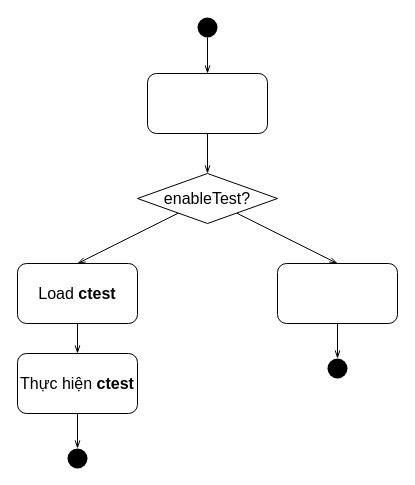
Some shapes in this 415 by 485 pixel diagram are drawn without their labels. The centre of each missing label's shape, as x and y in pixels:
"Load cdev" belongs at point (207, 103).
"Thực hiện cdev" belongs at point (337, 293).
